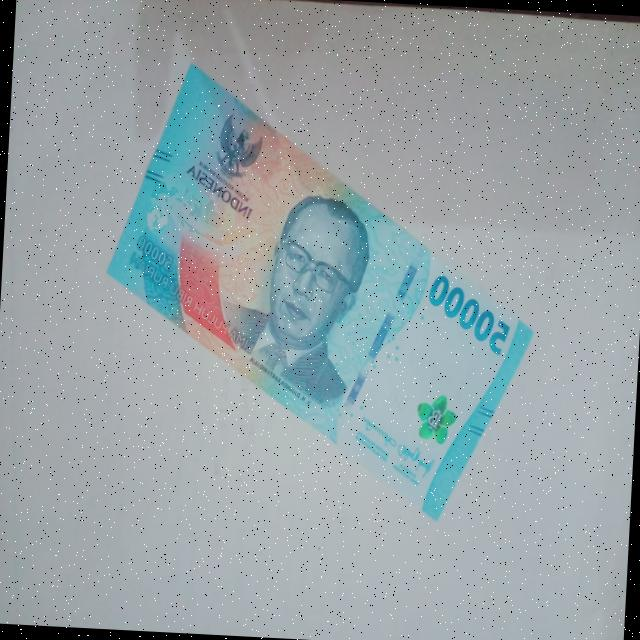50K: (86, 59, 552, 542)
